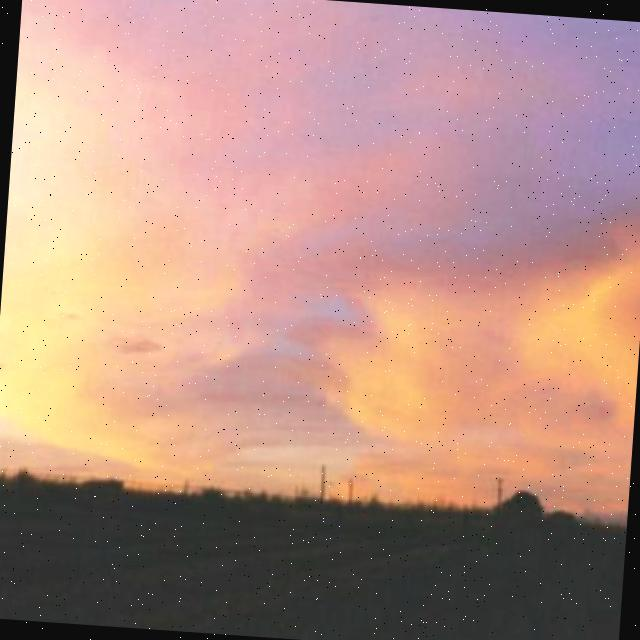Cs: (1, 64, 640, 487)
